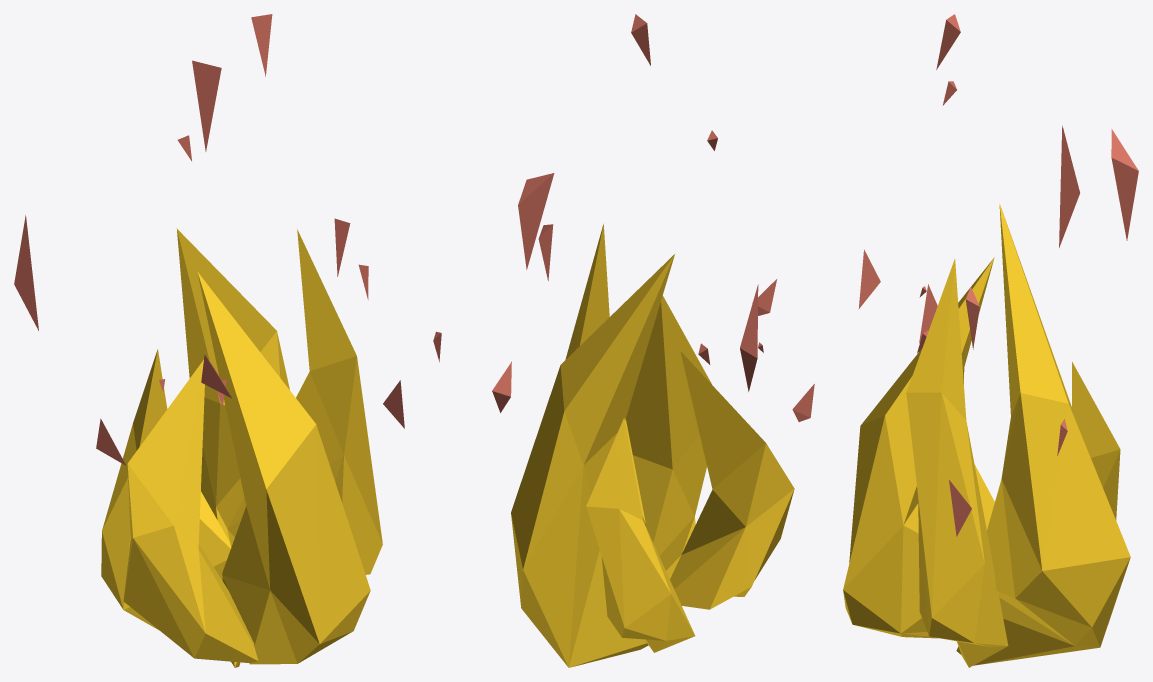
File: Fireplace_flame.glb
3 renders of one model, left to right at view 1: azimuth 30°, elevation 25°; view 2: azimuth 150°, elevation 25°; view 3: azimuth 270°, elevation 25°, orthographic. The views are drawn at different scales.
Parts seen in each view (by area): view 1: fire; view 2: fire; view 3: fire.
Boxes of the visible parts, left/top/right/bottom form: fire: left=14, top=14, right=404, bottom=667; fire: left=433, top=14, right=814, bottom=667; fire: left=843, top=14, right=1138, bottom=667.
Bounding box in the file's own units: 1.12 × 2.02 × 0.827.
1 material, 1 textured.
